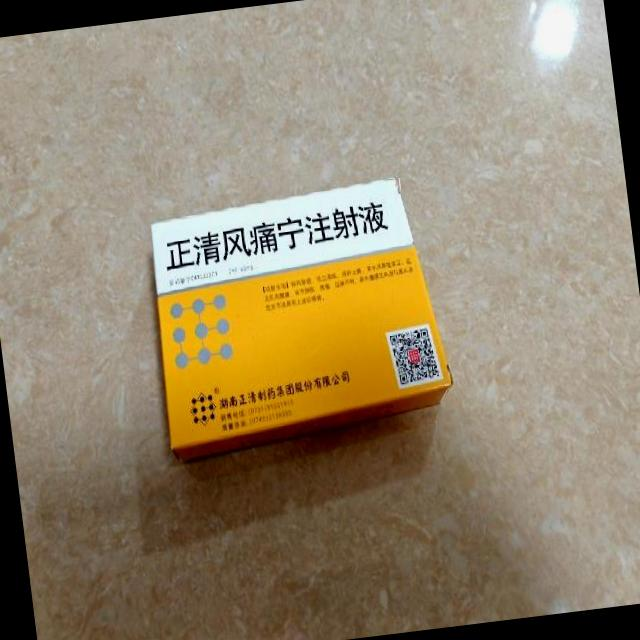box: (143, 172, 456, 462)
